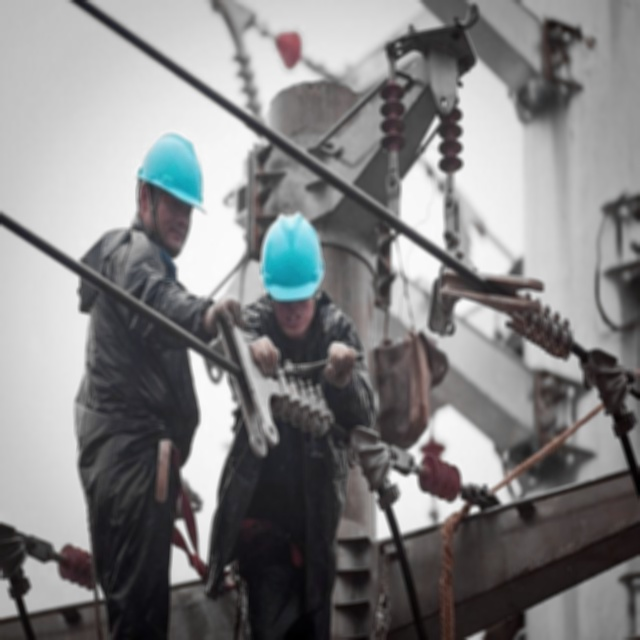Con_Casco: (138, 134, 203, 254), (261, 214, 322, 332)
